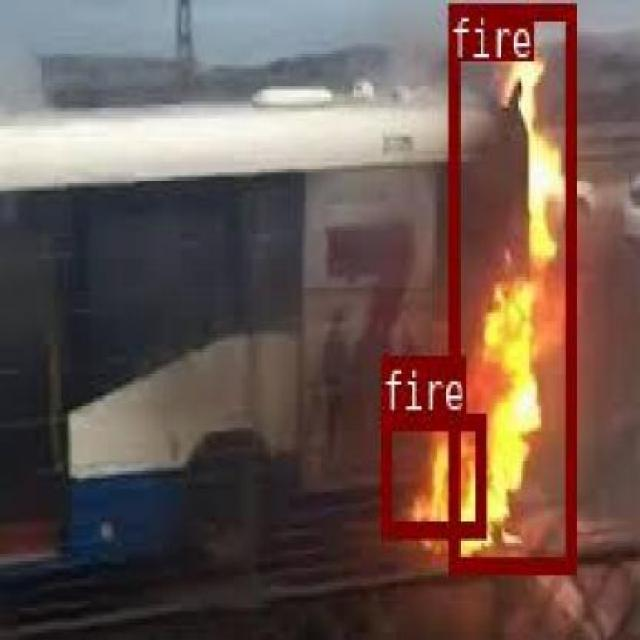Fire: (447, 1, 575, 572), (378, 413, 484, 535)
